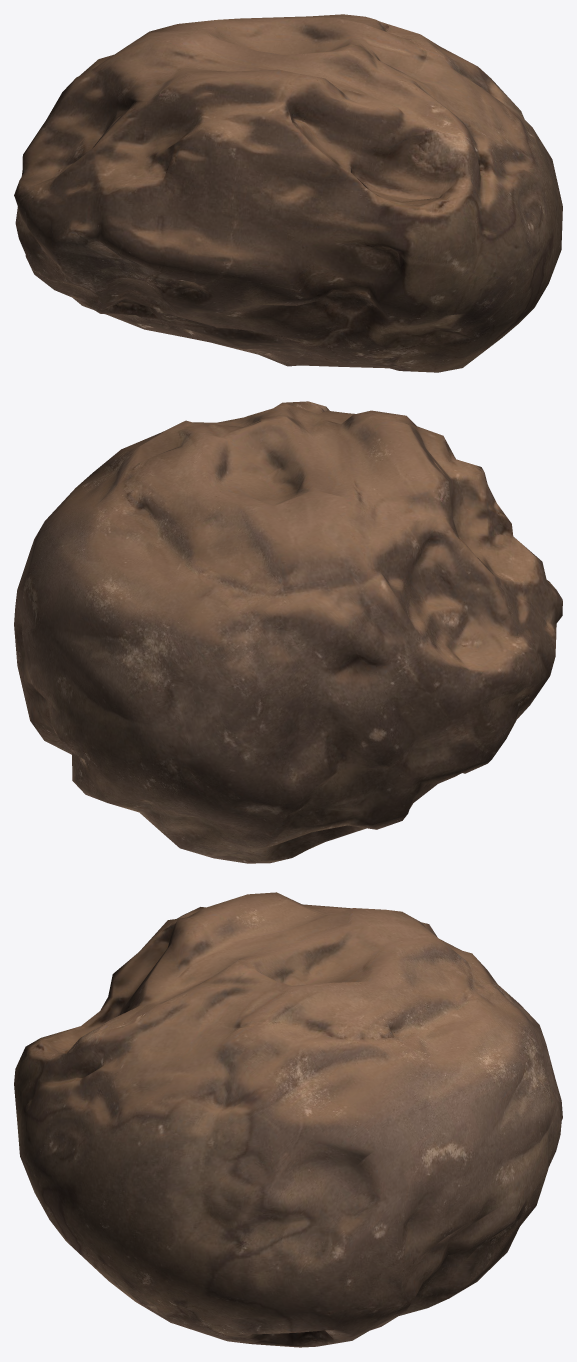
File: mars-ventifact-ensg.glb
3 views of the same model, one above another, from view 1: azimuth 30°, elevation 25°; view 2: azimuth 150°, elevation 25°; view 3: azimuth 270°, elevation 25° (orthographic). The views are drawn at different scales.
Visible parts, largest first — view 1: mars-ventifact-ensg_LOD0; view 2: mars-ventifact-ensg_LOD0; view 3: mars-ventifact-ensg_LOD0.
Boxes of the visible parts, bbox=[...] form: mars-ventifact-ensg_LOD0: bbox=[14, 14, 562, 372]; mars-ventifact-ensg_LOD0: bbox=[14, 401, 562, 863]; mars-ventifact-ensg_LOD0: bbox=[14, 892, 562, 1347].
Size of what is drawn, in the model's own units: 1.2 by 0.8342 by 1.17.
Materials: 1 (1 with a texture image).
